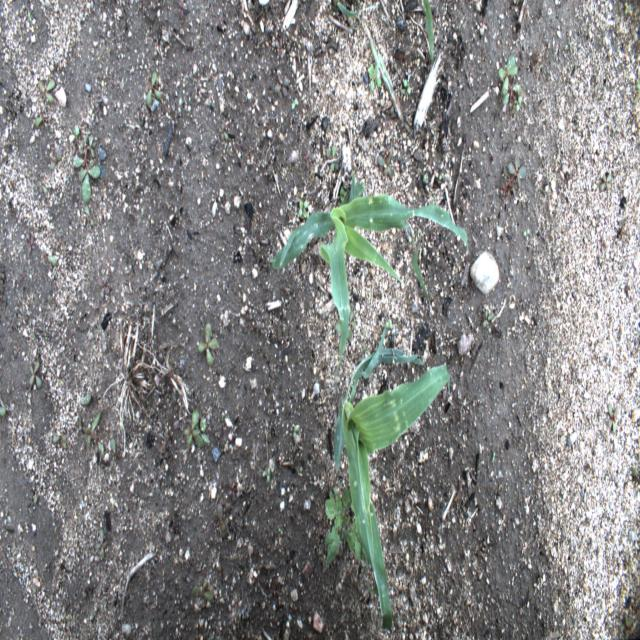crop: (270, 172, 470, 374), (333, 324, 451, 631), (334, 0, 403, 126), (422, 0, 434, 69)
weed: (325, 484, 376, 567), (72, 132, 101, 203), (498, 53, 525, 112), (500, 154, 528, 196), (85, 409, 105, 460), (198, 322, 218, 366), (183, 409, 205, 448), (146, 69, 162, 105), (192, 578, 214, 603), (216, 502, 231, 538), (378, 148, 394, 180), (38, 78, 56, 103), (273, 72, 290, 98), (606, 401, 619, 435), (368, 62, 382, 92), (28, 361, 42, 389), (95, 528, 108, 558), (96, 274, 110, 300), (197, 417, 211, 443), (618, 614, 633, 638), (48, 149, 63, 172), (335, 322, 353, 340), (34, 112, 50, 130), (50, 433, 68, 449), (598, 172, 612, 192), (346, 311, 358, 334), (41, 252, 58, 268), (109, 438, 122, 458), (84, 204, 95, 227), (482, 310, 494, 329), (26, 234, 36, 256), (218, 122, 229, 142), (298, 199, 308, 220), (68, 125, 80, 142), (402, 78, 412, 97), (325, 146, 337, 160), (593, 72, 600, 95), (80, 392, 91, 406), (630, 95, 638, 112), (340, 186, 348, 202), (626, 554, 632, 575), (329, 162, 340, 172), (39, 181, 47, 194), (362, 328, 366, 352), (625, 2, 632, 15), (291, 96, 297, 110), (385, 321, 393, 330), (266, 466, 270, 482), (0, 407, 6, 416), (293, 425, 297, 438), (27, 12, 32, 21), (439, 172, 444, 181), (423, 174, 427, 184)
